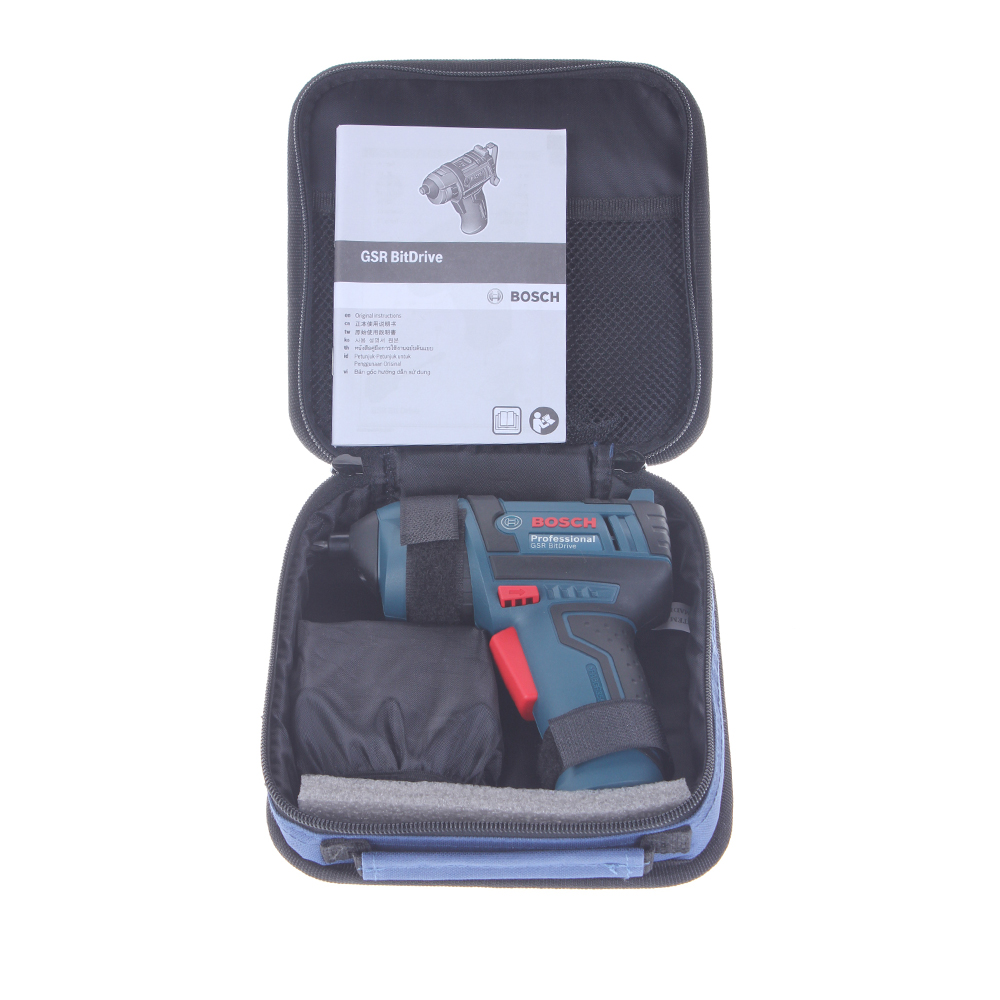Bosch: (531, 512, 600, 532), (506, 287, 563, 308)
